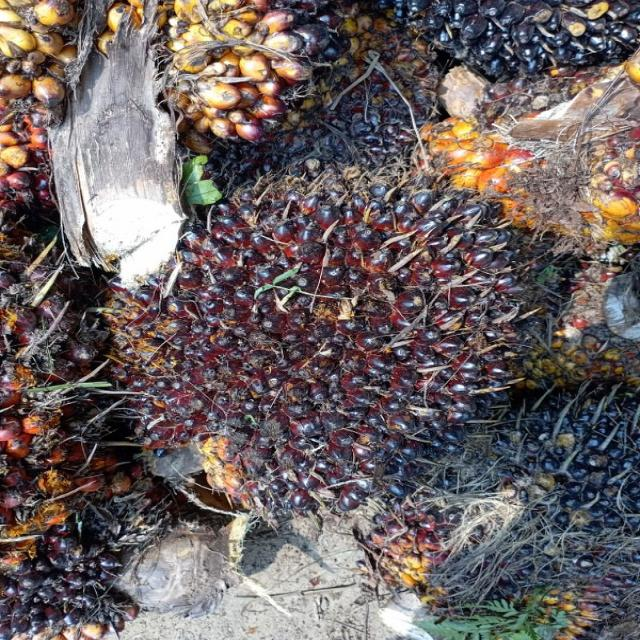fraksi 00: (378, 381, 640, 640)
fraksi 1: (108, 169, 506, 491)
